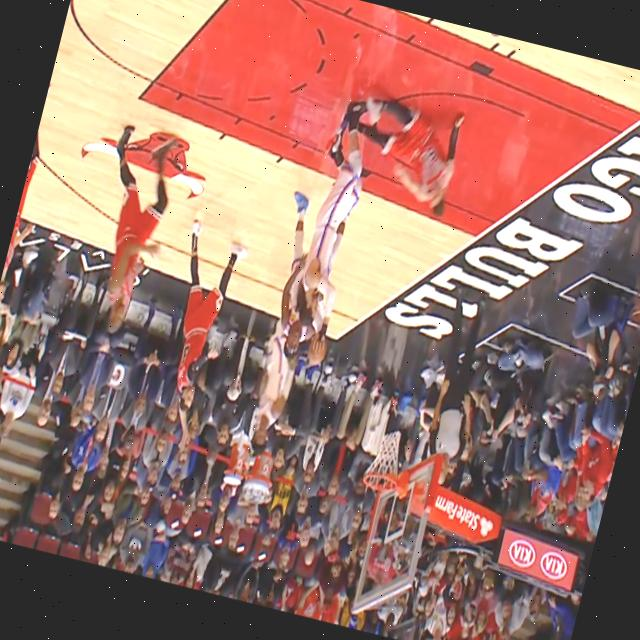foul: (276, 66, 477, 379)
